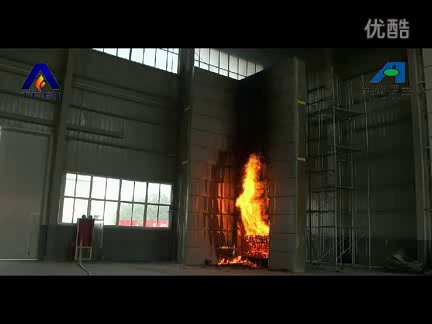fire: (237, 155, 268, 235)
